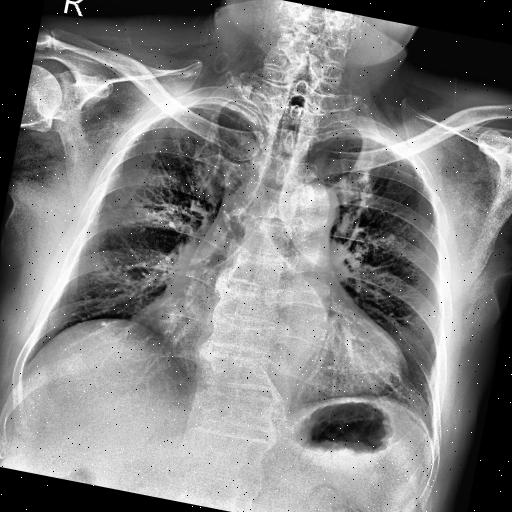0- Aortic enlargement: (274, 180, 342, 246), (277, 178, 341, 246), (288, 178, 344, 238)
3- Cardiomegaly: (152, 278, 418, 406), (148, 286, 414, 398), (144, 301, 412, 403)
7- Lung Opacity: (180, 142, 263, 284)
9- Other lesion: (180, 142, 263, 284)
